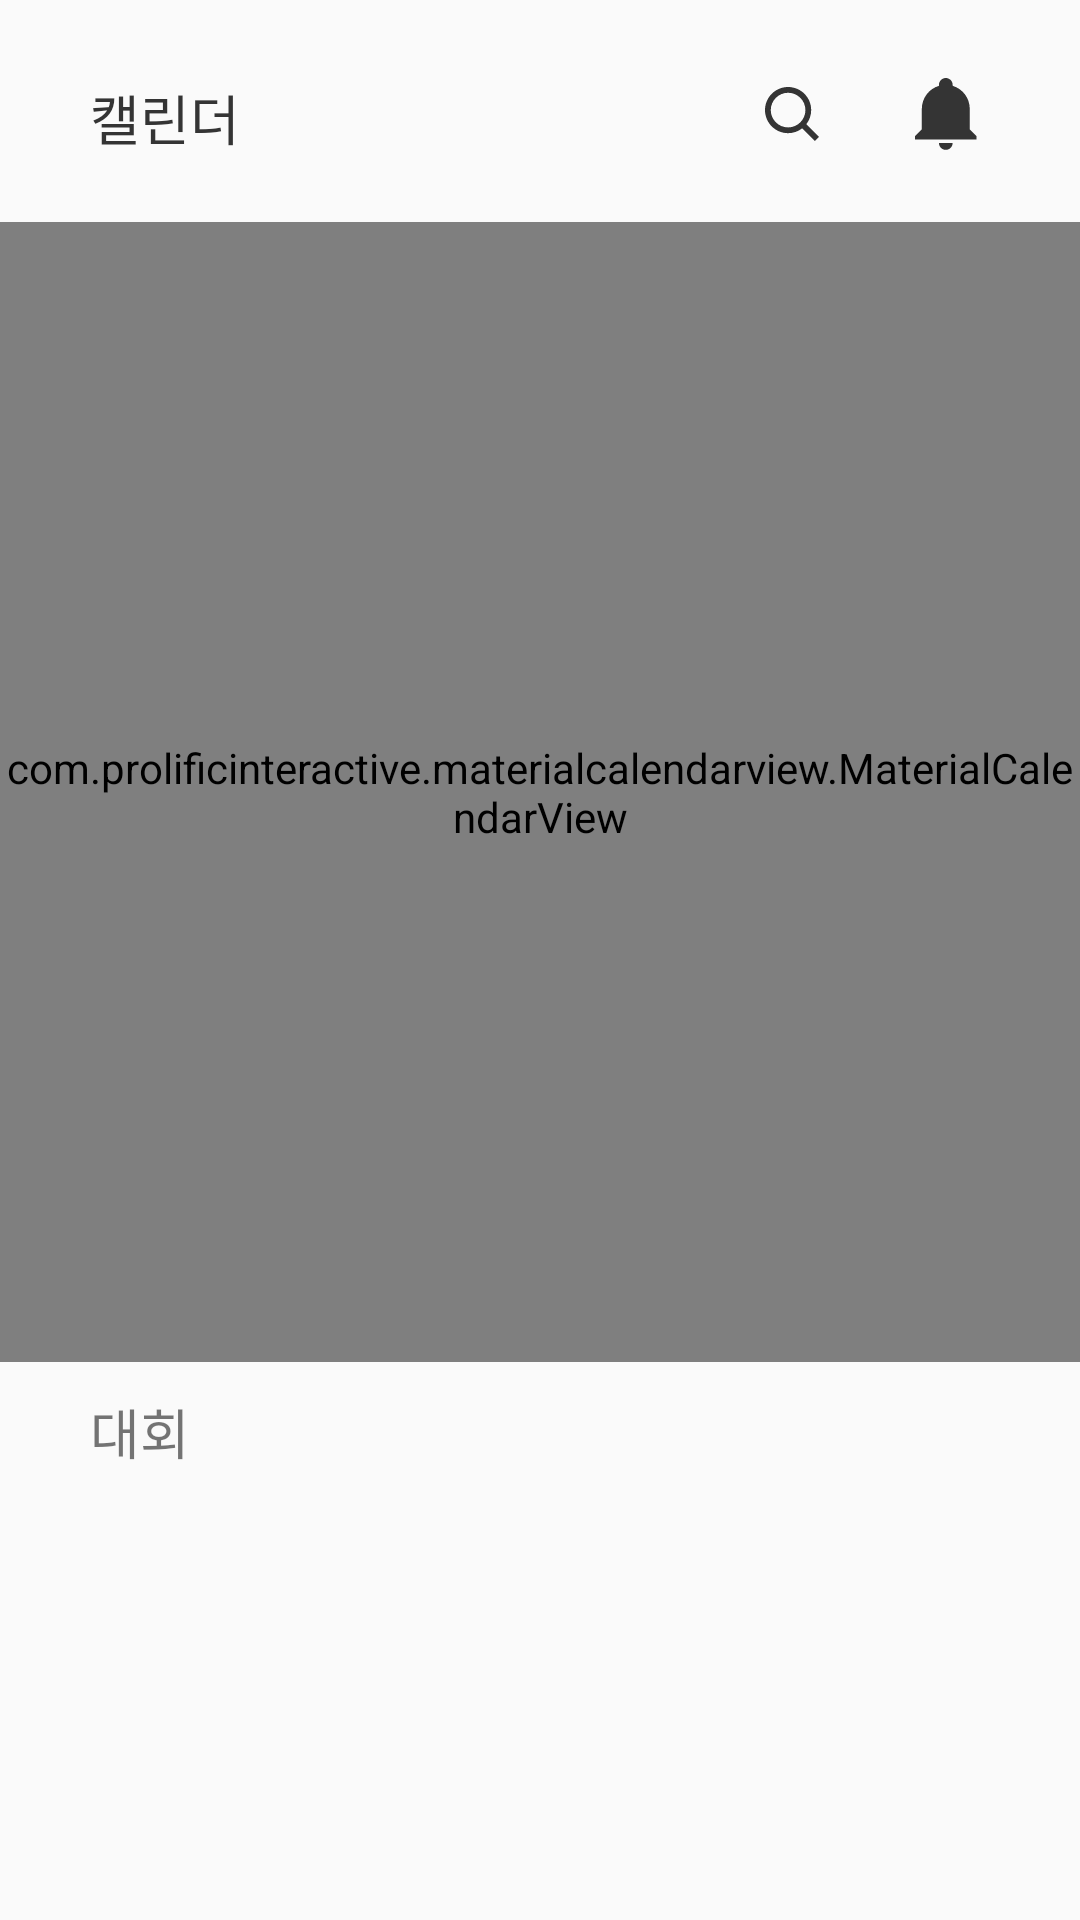

Named icons in this screenshot (1080x1920) and their centers, point (x, y):
bell: point (946, 114)
search: point (792, 114)
